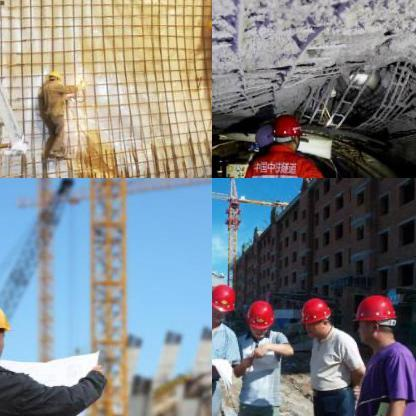Helmet: (350, 290, 398, 348), (296, 294, 334, 338), (268, 112, 302, 148), (212, 281, 239, 324), (245, 297, 274, 335), (0, 288, 14, 364), (47, 70, 62, 86), (206, 16, 211, 33)
